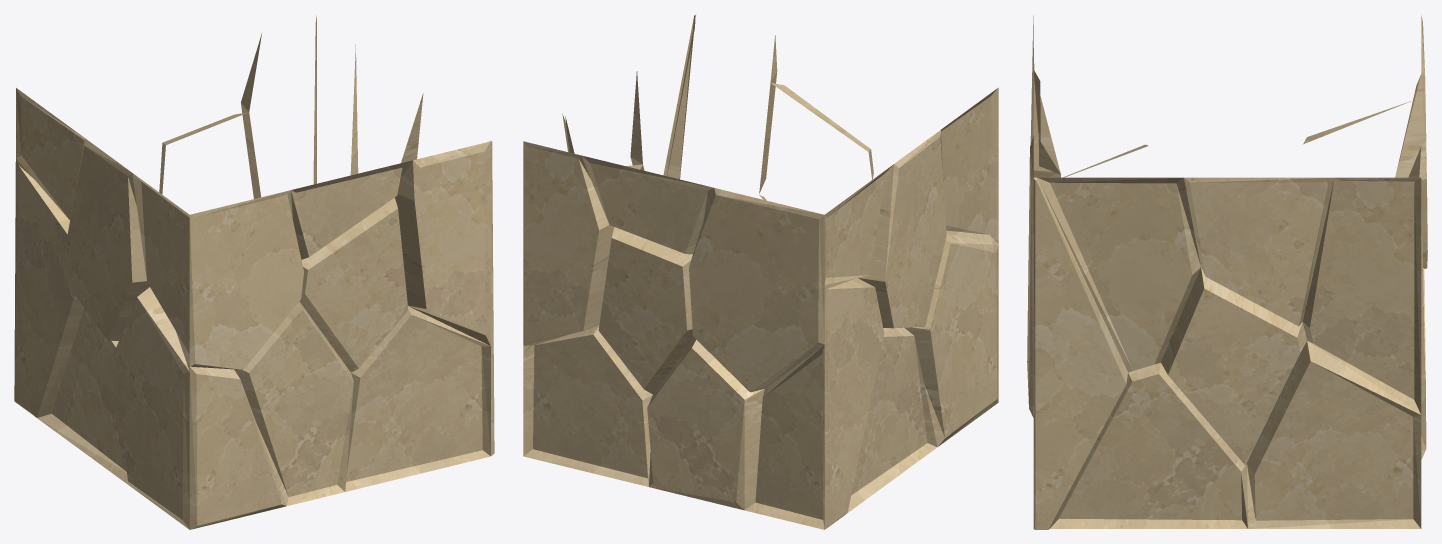
File: ground_rock_07.gltf
The picture shows the model from 3 angles, left to right: view 1: azimuth 30°, elevation 25°; view 2: azimuth 150°, elevation 25°; view 3: azimuth 270°, elevation 25°; orthographic projection. The views are drawn at different scales.
Visible parts, largest first — view 1: ground_rock_07; view 2: ground_rock_07; view 3: ground_rock_07.
Part boxes in pixels (box(x1,y1,x2,y2)): ground_rock_07: box(14, 15, 494, 529); ground_rock_07: box(523, 14, 998, 529); ground_rock_07: box(1027, 15, 1427, 529).
Bounding box in the file's own units: 1.03 × 1 × 1.03.
Materials: 28 (28 with a texture image).
